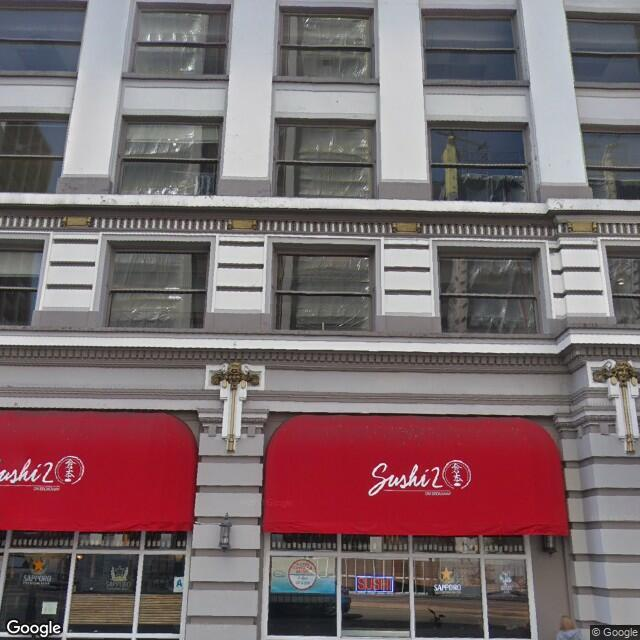window: (426, 236, 542, 343), (262, 231, 369, 330), (427, 118, 537, 201), (274, 115, 380, 198), (120, 110, 219, 194), (419, 5, 520, 81), (322, 545, 423, 621), (110, 246, 207, 325), (67, 547, 144, 634), (1, 7, 84, 76), (565, 13, 640, 84)
